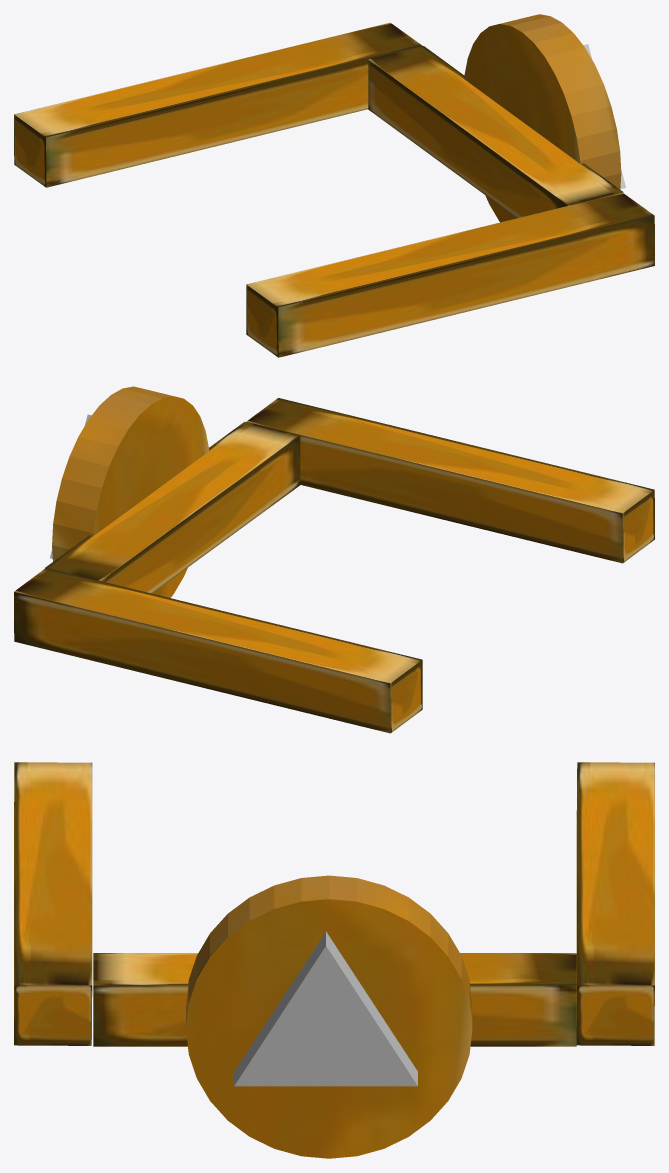
File: Triangle symbol.fbx
3 views of the same model, one above another, from view 1: azimuth 30°, elevation 25°; view 2: azimuth 150°, elevation 25°; view 3: azimuth 270°, elevation 25° (orthographic). The views are drawn at different scales.
Parts seen in each view (by area): view 1: Cube.1500; view 2: Cube.1500; view 3: Cube.1500.
Part boxes in pixels (left/top/right/bottom): Cube.1500: left=14, top=14, right=654, bottom=357; Cube.1500: left=14, top=386, right=654, bottom=733; Cube.1500: left=14, top=762, right=654, bottom=1158.
Size of the model in its own units: 71.2 by 33.25 by 74.41.
